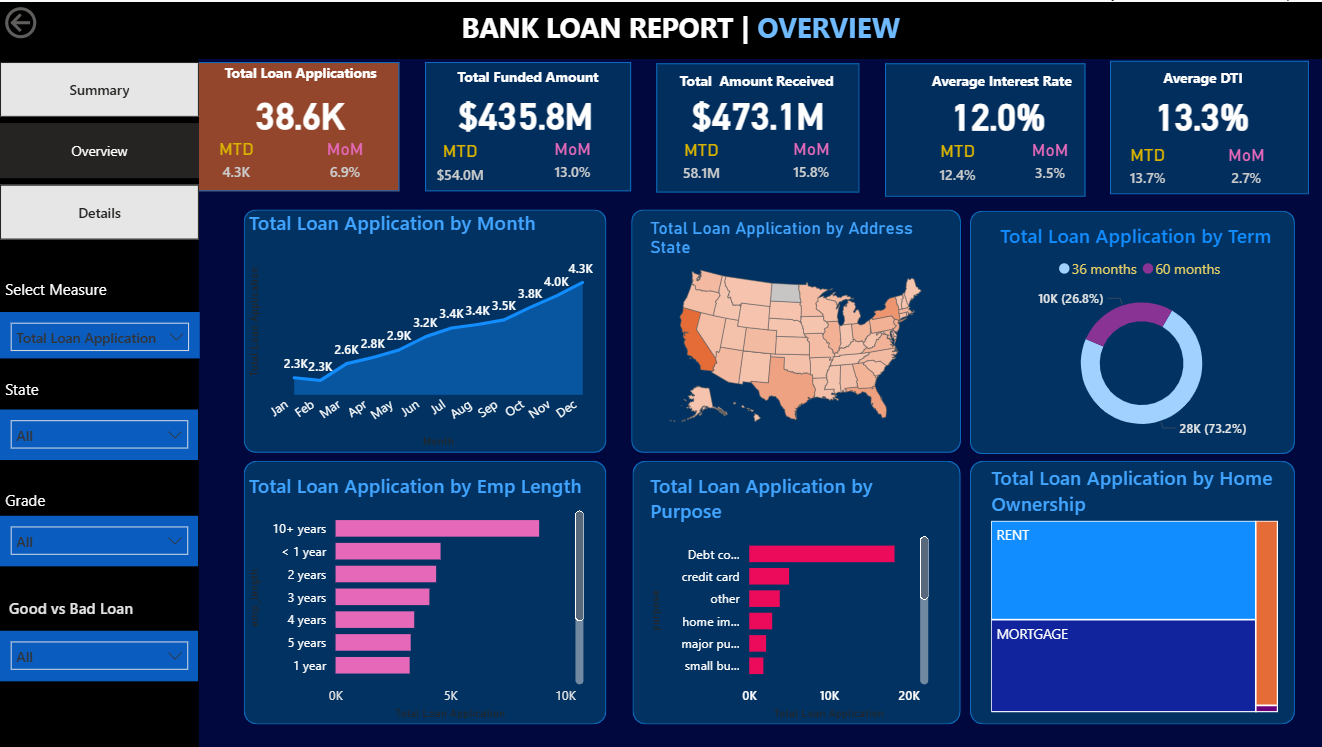

The dashboard page shown, as its layout file describes it:
{"tool":"powerbi","page":{"name":"Overview","canvas":[1280,720],"ordinal":1},"visuals":[{"type":"shape","box":[0,0,1280.3,55],"z":0},{"type":"shape","box":[190.7,57.6,194.9,124.9],"z":1000},{"type":"shape","box":[0,54.9,192,665.5],"z":2000},{"type":"card","fields":{"Values":["Bank_loan_data.Total Loan Application"]},"box":[226.4,57.6,126.2,98.8],"z":3000},{"type":"textbox","box":[440.5,1.4,447.3,53.5],"z":4000},{"type":"textbox","box":[211.3,54.9,157.8,45.3],"z":5000},{"type":"card","title":"MTD","fields":{"Values":["Bank_loan_data.MTD Loan Applications"]},"box":[192.1,131.7,72.7,50.8],"z":6000},{"type":"card","title":"MoM","fields":{"Values":["Bank_loan_data.MoM Loan Applications"]},"box":[296.4,131.7,72.7,50.8],"z":7000},{"type":"shape","box":[633.3,59,196.2,124.9],"z":8000},{"type":"card","fields":{"Values":["Bank_loan_data.Total Amount Received"]},"box":[661.4,57.6,141.3,98.8],"z":9000},{"type":"card","title":"MTD","fields":{"Values":["Bank_loan_data.MTD Total Amount Received"]},"box":[640.8,133.1,72.7,50.8],"z":10000},{"type":"card","title":"MoM","fields":{"Values":["Bank_loan_data.MoM Total Amount Received"]},"box":[746.5,131.7,72.7,50.8],"z":11000},{"type":"textbox","box":[642.2,61.7,177,45.3],"z":12000},{"type":"shape","box":[853.9,59,193.5,129],"z":13000},{"type":"card","title":"MTD","fields":{"Values":["Bank_loan_data.MTD Interest Rate"]},"box":[887.8,134.5,72.7,50.8],"z":14000},{"type":"card","title":"MoM","fields":{"Values":["Bank_loan_data.MoM Average Interset Rate"]},"box":[977,133.1,72.7,50.8],"z":15000},{"type":"textbox","box":[878.2,61.7,177,46.7],"z":16000},{"type":"card","fields":{"Values":["Bank_loan_data.Average Interst Rate"]},"box":[893.3,59,141.3,98.8],"z":17000},{"type":"shape","box":[1071.7,56.3,192.1,129],"z":18000},{"type":"card","title":"MTD","fields":{"Values":["Bank_loan_data.MTD Average DTI"]},"box":[1071.7,137.2,72.7,50.8],"z":19000},{"type":"card","title":"MoM","fields":{"Values":["Bank_loan_data.MoM Average DTI"]},"box":[1166.4,137.2,72.7,50.8],"z":20000},{"type":"card","fields":{"Values":["Bank_loan_data.Average DTI"]},"box":[1089.5,59,141.3,98.8],"z":21000},{"type":"textbox","box":[1073.1,59,177,46.7],"z":22000},{"type":"shape","box":[409.9,57.6,199,124.9],"z":23000},{"type":"card","fields":{"Values":["Bank_loan_data.Total Funded Amount"]},"box":[436.4,57.6,141.3,98.8],"z":24000},{"type":"textbox","box":[430.9,57.6,157.8,45.3],"z":25000},{"type":"card","title":"MTD","fields":{"Values":["Bank_loan_data.MTD Loan Amount"]},"box":[407.5,134.5,72.7,50.8],"z":26000},{"type":"card","title":"MoM","fields":{"Values":["Bank_loan_data.MoM Total Funded Amount"]},"box":[516,131.7,72.7,50.8],"z":27000},{"type":"shape","box":[234.8,200,350,234.8],"z":28000},{"type":"actionButton","box":[0,0,100,40],"z":29000},{"type":"textbox","box":[211.8,460.5,176.3,46.5],"z":30000},{"type":"slicer","fields":{"Values":["Bank_loan_data.address_state"]},"box":[0,393.5,191.3,49.2],"z":31000},{"type":"textbox","box":[0,358,60.1,30.1],"z":32000},{"type":"slicer","fields":{"Values":["Bank_loan_data.grade"]},"box":[0,496,191.3,49.2],"z":33000},{"type":"textbox","box":[0,465.9,60.1,36.9],"z":34000},{"type":"slicer","fields":{"Values":["Bank_loan_data.grade"]},"box":[0,606.7,191.3,49.2],"z":35000},{"type":"textbox","box":[0,569.7,134.8,36.4],"z":36000},{"type":"slicer","fields":{"Values":["Parameter.Parameter"]},"box":[0,299.2,192.7,45.1],"z":37000},{"type":"textbox","box":[0,262.3,113.4,36.9],"z":38000},{"type":"areaChart","fields":{"Y":["Bank_loan_data.Total Loan Application"],"Category":["Date Table.Month"]},"box":[234.8,200,342.4,234.8],"z":39000},{"type":"shape","box":[609.1,200,318.2,234.8],"z":40000},{"type":"shapeMap","title":"Total Loan Application by Address State","fields":{"Value":["Bank_loan_data.Total Loan Application"],"Category":["Bank_loan_data.address_state"]},"box":[622.7,207.6,290.9,210.6],"z":41000},{"type":"shape","box":[936.4,201.5,313.6,234.8],"z":42000},{"type":"donutChart","title":"Total Loan Application by Term","fields":{"Y":["Bank_loan_data.Total Loan Application"],"Category":["Bank_loan_data.term"]},"box":[960.6,212.1,283.3,218.2],"z":43000},{"type":"shape","box":[234.8,442.4,350,254.5],"z":44000},{"type":"barChart","title":"Total Loan Application by Emp Length","fields":{"Y":["Bank_loan_data.Total Loan Application"],"Category":["Bank_loan_data.emp_length"]},"box":[234.8,453,333.3,243.9],"z":45000},{"type":"shape","box":[610.6,442.4,316.7,254.5],"z":46000},{"type":"barChart","title":"Total Loan Application by Purpose","fields":{"Y":["Bank_loan_data.Total Loan Application"],"Category":["Bank_loan_data.purpose"]},"box":[622.7,453,278.8,243.9],"z":47000},{"type":"shape","box":[936.4,442.4,313.6,254.5],"z":48000},{"type":"treemap","title":"Total Loan Application by Home Ownership","fields":{"Values":["Bank_loan_data.Total Loan Application"],"Group":["Bank_loan_data.home_ownership"]},"box":[951.5,447,286.4,243.9],"z":49000},{"type":"pageNavigator","box":[0,57.6,192.4,171.2],"z":50000}]}

Visuals, with their boxes in screenshot pixels (x1, y1, x2, y2), scaled from the page's 1280x720 canvas onto the 1322x747 screenshot:
shape: (x1=0, y1=0, x2=1321, y2=57)
shape: (x1=197, y1=60, x2=398, y2=189)
shape: (x1=0, y1=57, x2=198, y2=746)
card - Bank_loan_data.Total Loan Application: (x1=234, y1=60, x2=364, y2=162)
textbox: (x1=455, y1=1, x2=917, y2=57)
textbox: (x1=218, y1=57, x2=381, y2=104)
"MTD" card: (x1=198, y1=137, x2=273, y2=189)
"MoM" card: (x1=306, y1=137, x2=381, y2=189)
shape: (x1=654, y1=61, x2=857, y2=191)
card - Bank_loan_data.Total Amount Received: (x1=683, y1=60, x2=829, y2=162)
"MTD" card: (x1=662, y1=138, x2=737, y2=191)
"MoM" card: (x1=771, y1=137, x2=846, y2=189)
textbox: (x1=663, y1=64, x2=846, y2=111)
shape: (x1=882, y1=61, x2=1082, y2=195)
"MTD" card: (x1=917, y1=140, x2=992, y2=192)
"MoM" card: (x1=1009, y1=138, x2=1084, y2=191)
textbox: (x1=907, y1=64, x2=1090, y2=112)
card - Bank_loan_data.Average Interst Rate: (x1=923, y1=61, x2=1069, y2=164)
shape: (x1=1107, y1=58, x2=1305, y2=192)
"MTD" card: (x1=1107, y1=142, x2=1182, y2=195)
"MoM" card: (x1=1205, y1=142, x2=1280, y2=195)
card - Bank_loan_data.Average DTI: (x1=1125, y1=61, x2=1271, y2=164)
textbox: (x1=1108, y1=61, x2=1291, y2=110)
shape: (x1=423, y1=60, x2=629, y2=189)
card - Bank_loan_data.Total Funded Amount: (x1=451, y1=60, x2=597, y2=162)
textbox: (x1=445, y1=60, x2=608, y2=107)
"MTD" card: (x1=421, y1=140, x2=496, y2=192)
"MoM" card: (x1=533, y1=137, x2=608, y2=189)
shape: (x1=243, y1=208, x2=604, y2=451)
actionButton: (x1=0, y1=0, x2=103, y2=42)
textbox: (x1=219, y1=478, x2=401, y2=526)
slicer - Bank_loan_data.address_state: (x1=0, y1=408, x2=198, y2=459)
textbox: (x1=0, y1=371, x2=62, y2=403)
slicer - Bank_loan_data.grade: (x1=0, y1=515, x2=198, y2=566)
textbox: (x1=0, y1=483, x2=62, y2=522)
slicer - Bank_loan_data.grade: (x1=0, y1=629, x2=198, y2=680)
textbox: (x1=0, y1=591, x2=139, y2=629)
slicer - Parameter.Parameter: (x1=0, y1=310, x2=199, y2=357)
textbox: (x1=0, y1=272, x2=117, y2=310)
areaChart - Bank_loan_data.Total Loan Application x Date Table.Month: (x1=243, y1=208, x2=596, y2=451)
shape: (x1=629, y1=208, x2=958, y2=451)
"Total Loan Application by Address State" shapeMap: (x1=643, y1=215, x2=944, y2=434)
shape: (x1=967, y1=209, x2=1291, y2=453)
"Total Loan Application by Term" donutChart: (x1=992, y1=220, x2=1285, y2=446)
shape: (x1=243, y1=459, x2=604, y2=723)
"Total Loan Application by Emp Length" barChart: (x1=243, y1=470, x2=587, y2=723)
shape: (x1=631, y1=459, x2=958, y2=723)
"Total Loan Application by Purpose" barChart: (x1=643, y1=470, x2=931, y2=723)
shape: (x1=967, y1=459, x2=1291, y2=723)
"Total Loan Application by Home Ownership" treemap: (x1=983, y1=464, x2=1279, y2=717)
pageNavigator: (x1=0, y1=60, x2=199, y2=237)
